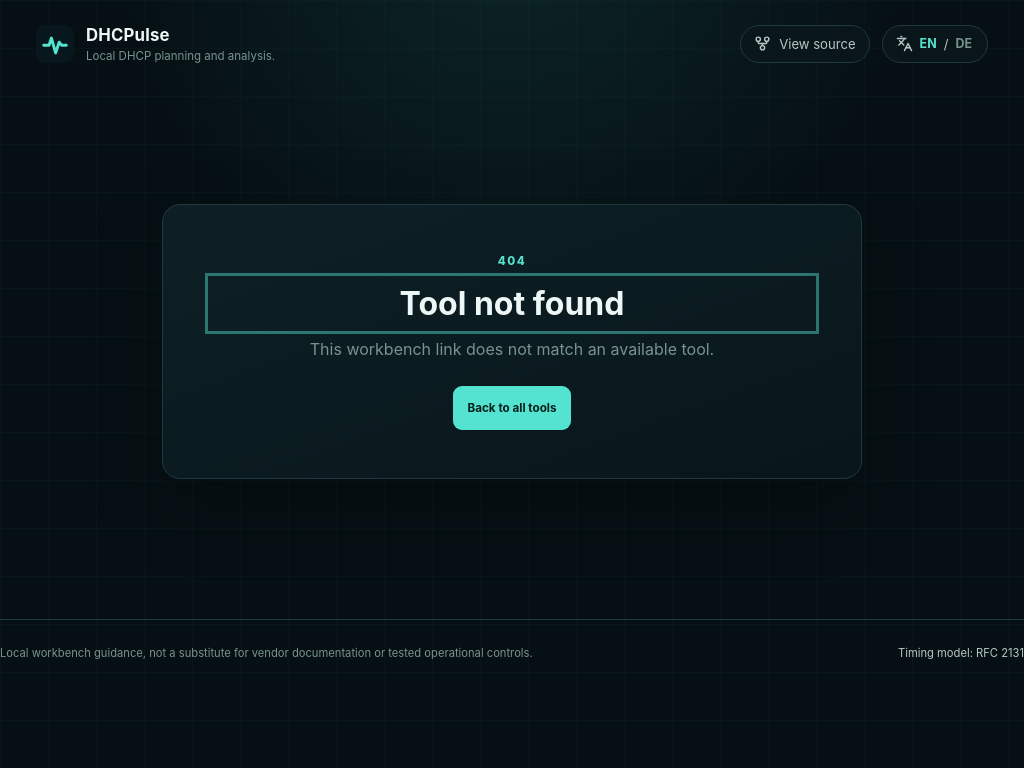
it: DHCPulse Workbench › shows a not-found route and returns to the catalog
Expected: the heading "Tool not found" is shown, [400,284,624,323]
Click the link "Back to all tools": [512, 408] box [454,386,570,430]
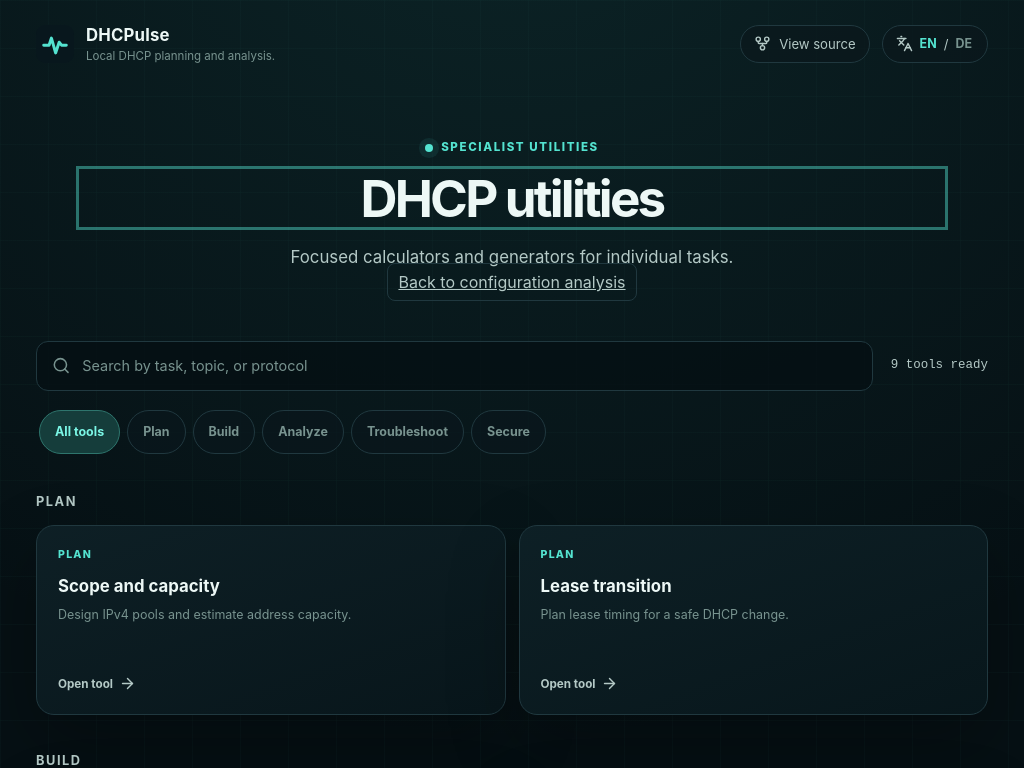
Now the heading "DHCP utilities" is shown, box [360,167,664,229]
